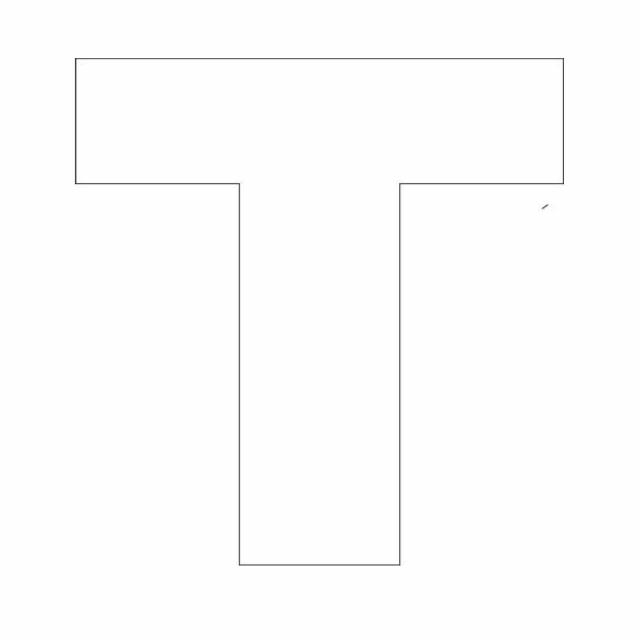T: (32, 21, 594, 598)
